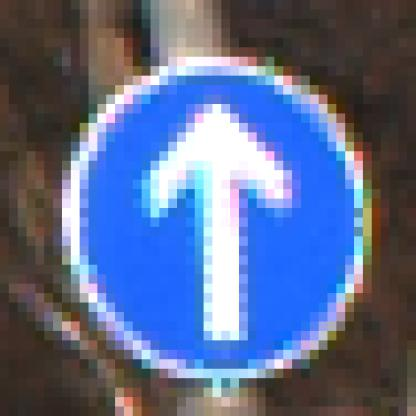AheadOnly: (54, 48, 364, 370)
